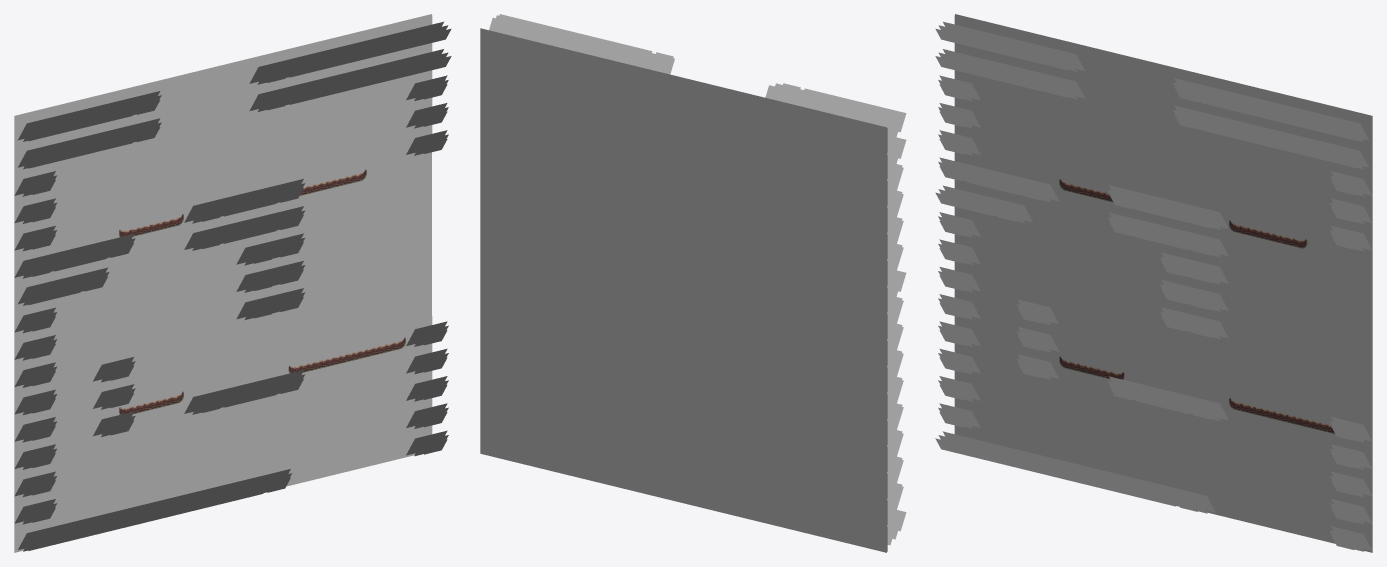
File: Plat_full_04_19.obj
The picture shows the model from 3 angles, left to right: view 1: azimuth 30°, elevation 25°; view 2: azimuth 150°, elevation 25°; view 3: azimuth 330°, elevation 25°; orthographic projection. The views are drawn at different scales.
Visible parts, largest first — view 1: map; view 2: map; view 3: map.
Boxes of the visible parts, <box> form: map: <box>14,14,451,552</box>; map: <box>480,14,906,552</box>; map: <box>935,14,1372,552</box>.
Size of the model in its own units: 32.5 by 32.12 by 2.64.
